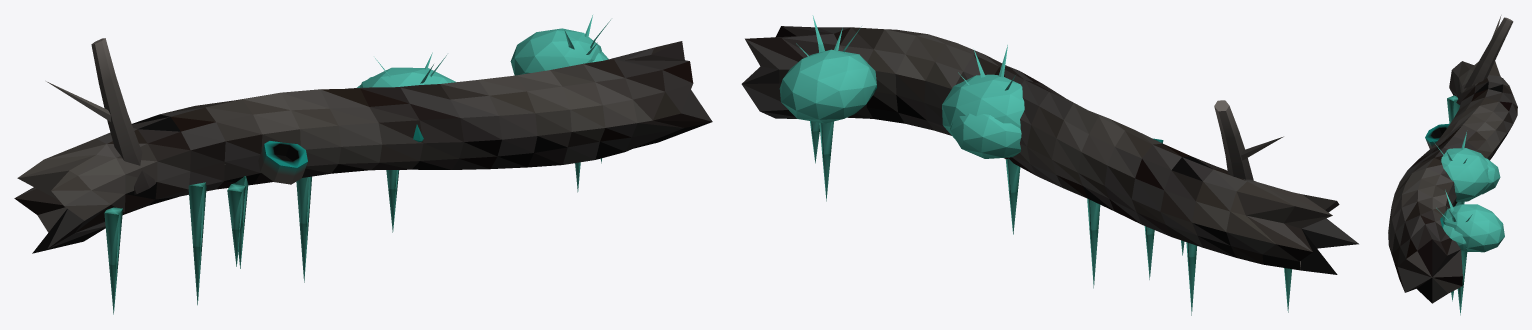
The model's file is pohon_tumbang_bridge_swamp_572200.glb.
The picture shows the model from 3 angles, left to right: view 1: azimuth 30°, elevation 25°; view 2: azimuth 150°, elevation 25°; view 3: azimuth 270°, elevation 25°; orthographic projection. The views are drawn at different scales.
Parts seen in each view (by area): view 1: Batang_Melintang_Sungai; view 2: Batang_Melintang_Sungai; view 3: Batang_Melintang_Sungai.
Boxes of the visible parts, <box> form: Batang_Melintang_Sungai: <box>14,15,712,314</box>; Batang_Melintang_Sungai: <box>741,15,1358,315</box>; Batang_Melintang_Sungai: <box>1388,15,1517,315</box>.
Bounding box in the file's own units: 7.45 × 2.92 × 2.
